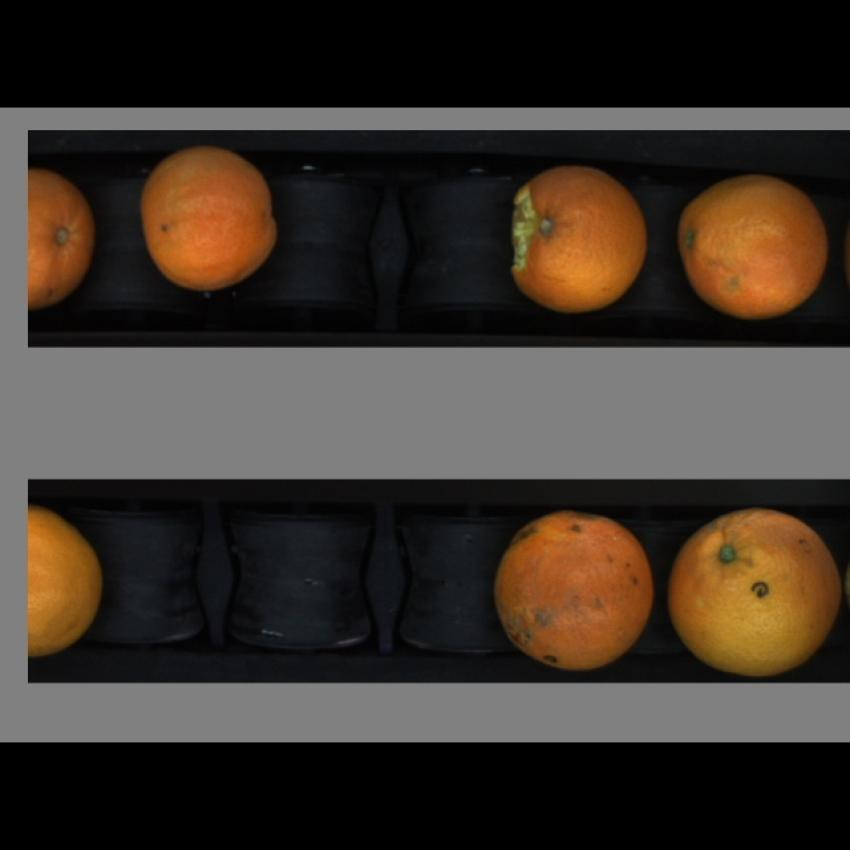Buen estado: (31, 508, 104, 664)
Mal estado: (666, 503, 848, 681), (489, 509, 660, 675), (677, 176, 832, 321), (506, 165, 649, 319), (135, 147, 285, 292), (29, 162, 89, 311)
